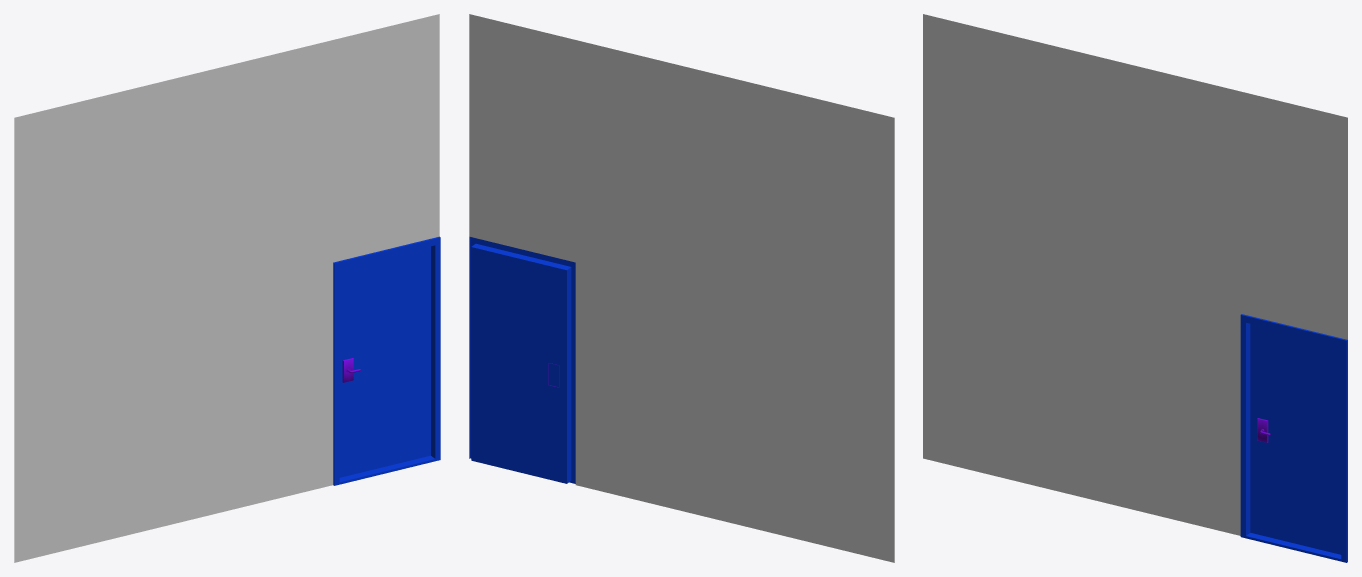
The model's file is SM_WallOffice_Door.fbx.
3 views of the same model, side by side, from view 1: azimuth 30°, elevation 25°; view 2: azimuth 150°, elevation 25°; view 3: azimuth 330°, elevation 25° (orthographic).
Parts seen in each view (by area): view 1: WallOffice_Door; view 2: WallOffice_Door; view 3: WallOffice_Door.
Boxes of the visible parts, <box> form: WallOffice_Door: <box>14,14,440,562</box>; WallOffice_Door: <box>469,14,894,562</box>; WallOffice_Door: <box>923,14,1347,562</box>.
Size of the model in its own units: 400 by 400 by 7.73.
